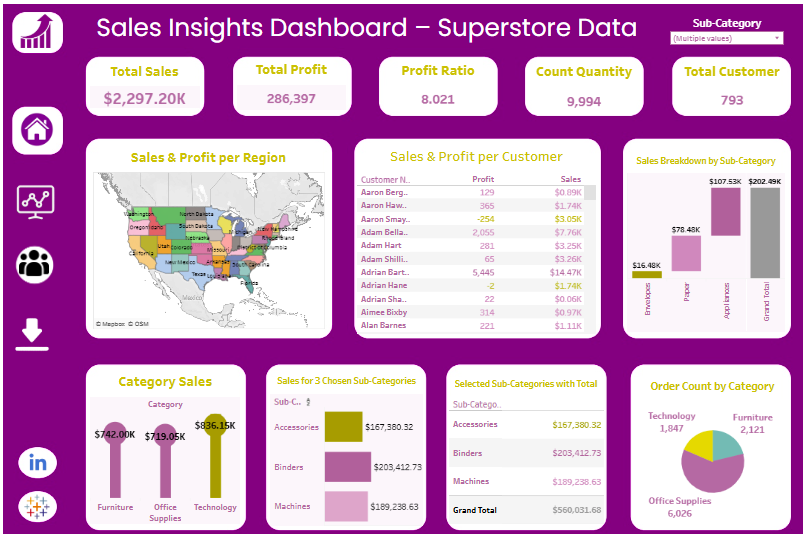

This screenshot's page, from the dashboard's own definition file:
{"tool":"tableau","page":{"name":"overview Dashboard","canvas":[1250,820],"ordinal":2},"visuals":[{"type":"image","param":"Image/dash1.jpg","box":[8,8,1234,804]},{"type":"text","box":[142,20,839,58]},{"type":"image","param":"Image/images-removebg-preview.png","box":[30,28,66,51]},{"type":"filter","title":"Waterfall report sales and subcategory (2)","param":"[federated.1b8n5og0bip4gc199cygs0b67gcq].[none:Sub-Category:nk]","box":[1012,29,172,47]},{"type":"worksheet","title":"Total Profit","mark":"Automatic","box":[363,91,163,80]},{"type":"worksheet","title":"Profit Ratio","mark":"Automatic","box":[583,92,163,81]},{"type":"worksheet","title":"Total Sales","mark":"Automatic","box":[142,93,165,75]},{"type":"worksheet","title":"count Quantity","mark":"Automatic","box":[806,93,155,84]},{"type":"worksheet","title":"count Customer No","mark":"Automatic","box":[1025,93,161,82]},{"type":"worksheet","title":"Sales & Profit by customer report","mark":"Automatic","rows":["Customer Name"],"box":[543,221,360,287]},{"type":"worksheet","title":"Map Viz with tooltip showing profit & sales per region","mark":"Multipolygon","box":[147,222,348,278]},{"type":"worksheet","title":"Waterfall report sales and subcategory (2)","mark":"GanttBar","rows":["Sales"],"cols":["Sub-Category"],"box":[948,232,237,272]},{"type":"dashboard-object","box":[27,268,67,84]},{"type":"image","param":"Image/uyt-removebg-preview.png","box":[14,343,91,121]},{"type":"dashboard-object","box":[3,378,112,45]},{"type":"worksheet","title":"Use Lollipop chart to clarify category and sales","mark":"Bar","rows":["Sales","Sales"],"cols":["Category"],"box":[143,559,225,234]},{"type":"worksheet","title":"Compare Three Categories","mark":"Automatic","rows":["Sub-Category"],"cols":["Sales"],"box":[413,563,229,232]},{"type":"worksheet","title":"Find totals of data tables form point no (6)","mark":"Automatic","rows":["Sub-Category"],"box":[681,567,232,226]},{"type":"worksheet","title":"Pie chart","mark":"Pie","box":[961,567,230,226]},{"type":"image","param":"Image/sm_5b321c9756fc6-removebg-preview.png","box":[37,677,54,44]},{"type":"image","param":"Image/taby-removebg-preview.png","box":[18,723,90,87]}]}

Visuals, with their boxes in screenshot pixels (x1, y1, x2, y2), scaled from the page's 1250x820 canvas onto the 807x538 screenshot:
image: locate(5, 5, 802, 533)
text: locate(92, 13, 633, 51)
image: locate(19, 18, 62, 52)
"Waterfall report sales and subcategory (2)" filter: locate(653, 19, 764, 50)
"Total Profit" worksheet: locate(234, 60, 340, 112)
"Profit Ratio" worksheet: locate(376, 60, 482, 114)
"Total Sales" worksheet: locate(92, 61, 198, 110)
"count Quantity" worksheet: locate(520, 61, 620, 116)
"count Customer No" worksheet: locate(662, 61, 766, 115)
"Sales & Profit by customer report" worksheet: locate(351, 145, 583, 333)
"Map Viz with tooltip showing profit & sales per region" worksheet (Multipolygon marks): locate(95, 146, 320, 328)
"Waterfall report sales and subcategory (2)" worksheet (GanttBar marks): locate(612, 152, 765, 331)
dashboard-object: locate(17, 176, 61, 231)
image: locate(9, 225, 68, 304)
dashboard-object: locate(2, 248, 74, 278)
"Use Lollipop chart to clarify category and sales" worksheet (Bar marks): locate(92, 367, 238, 520)
"Compare Three Categories" worksheet: locate(267, 369, 414, 522)
"Find totals of data tables form point no (6)" worksheet: locate(440, 372, 589, 520)
"Pie chart" worksheet (Pie marks): locate(620, 372, 769, 520)
image: locate(24, 444, 59, 473)
image: locate(12, 474, 70, 531)
